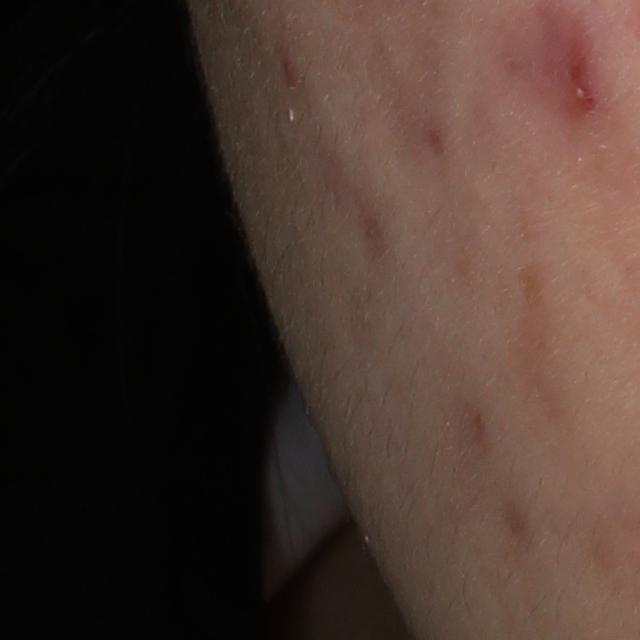papule: (280, 54, 300, 85)
